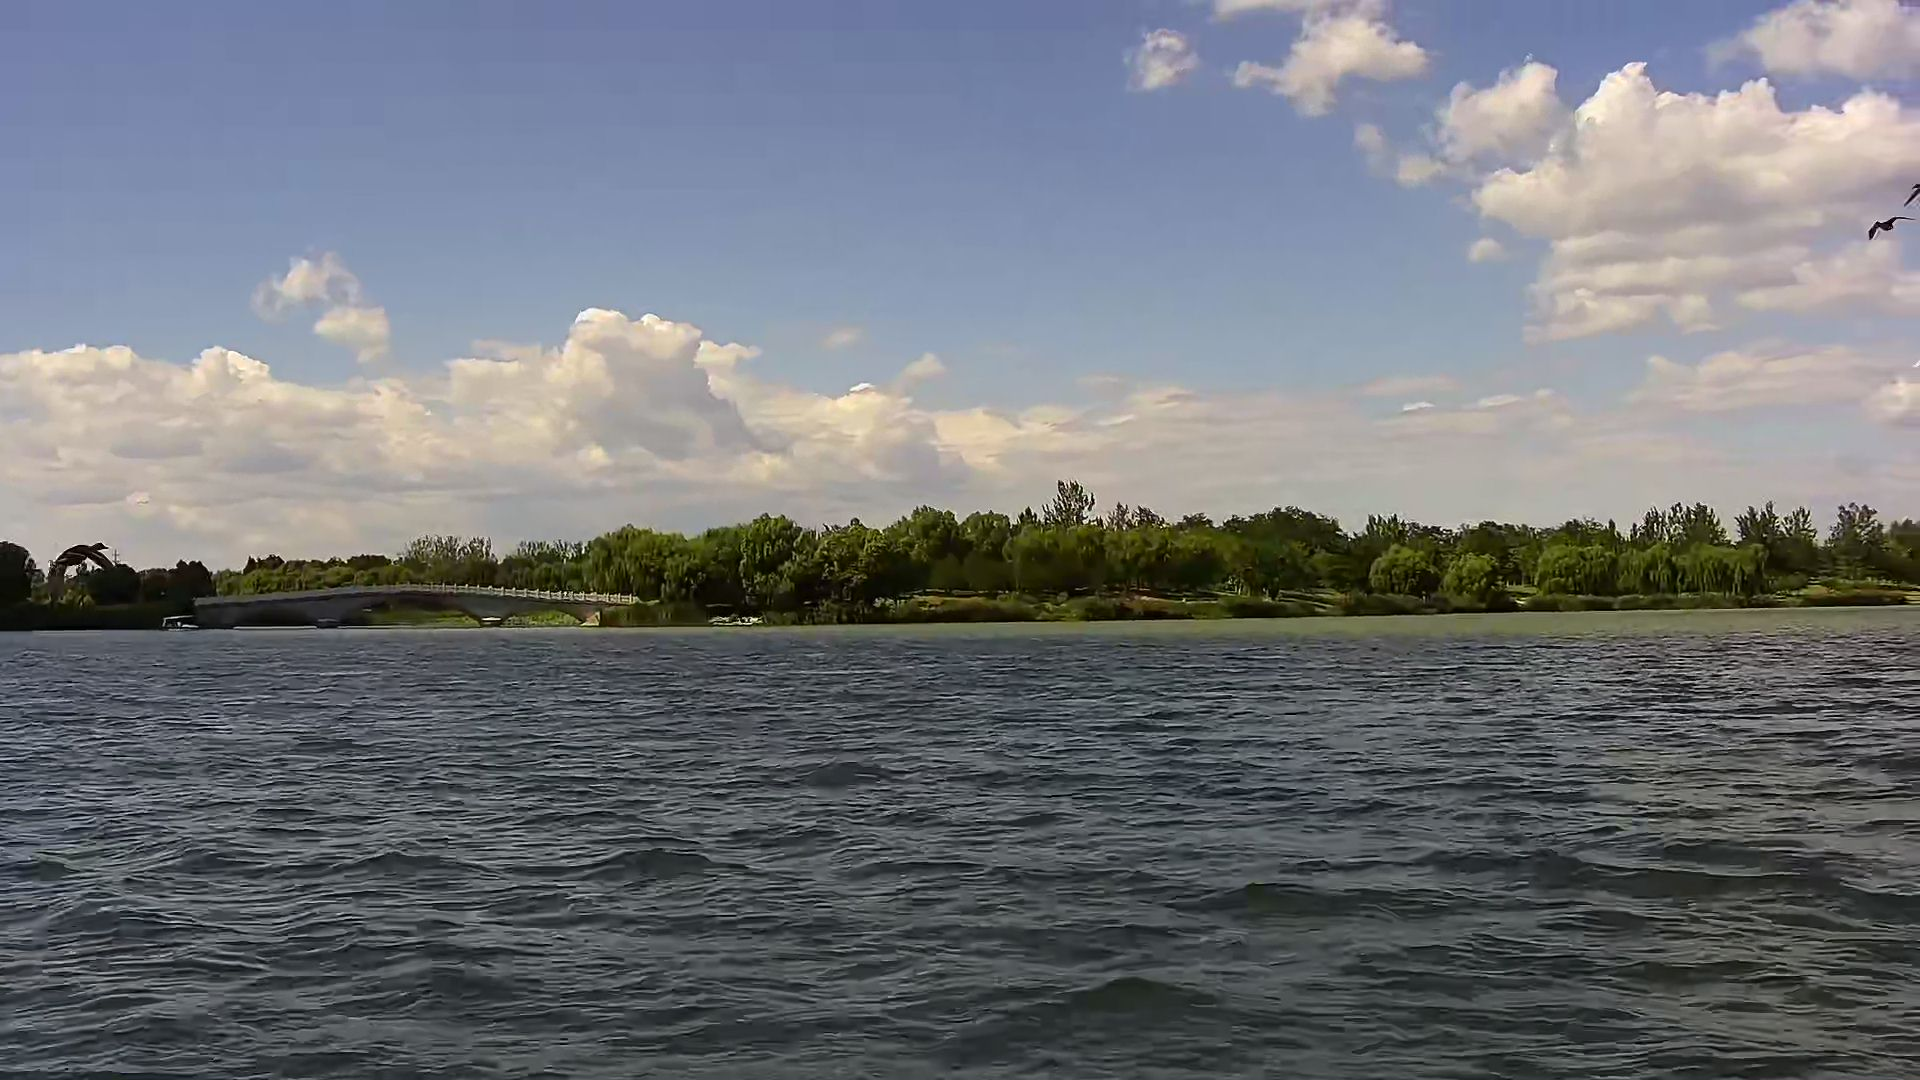bridge: (191, 585, 654, 632)
